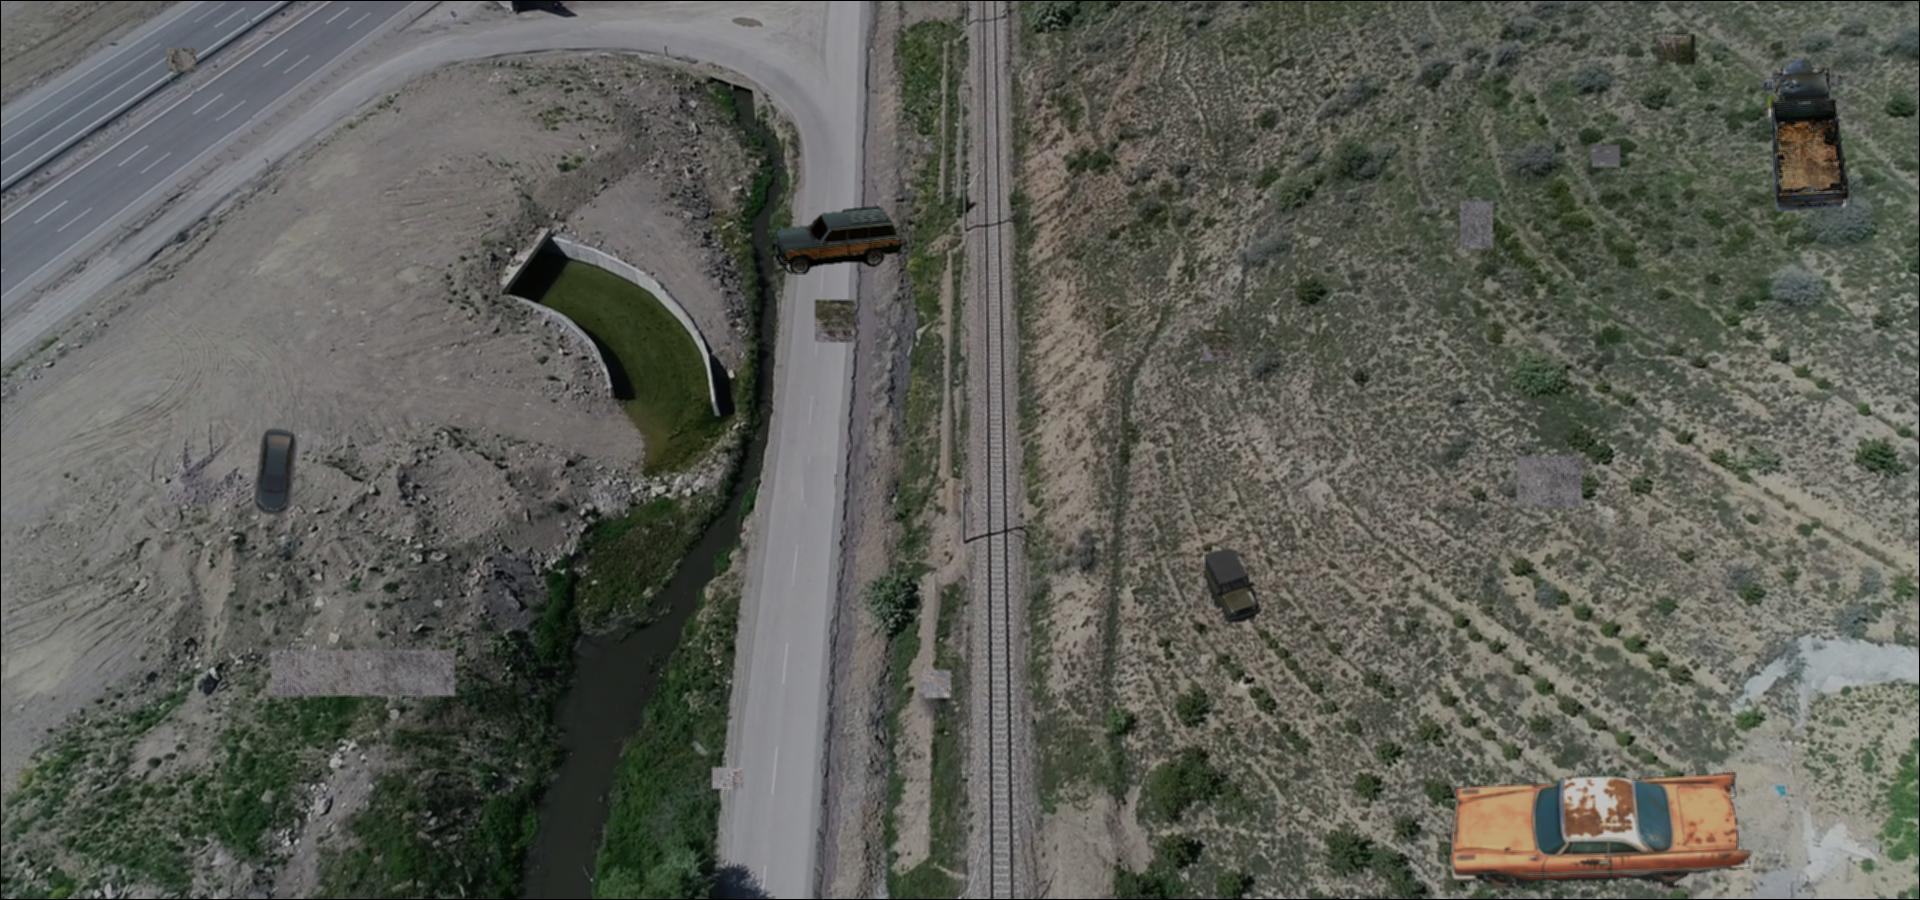arac: (1438, 770, 1788, 888), (1757, 53, 1855, 213), (767, 204, 902, 274), (241, 426, 298, 517), (1202, 549, 1262, 622)
